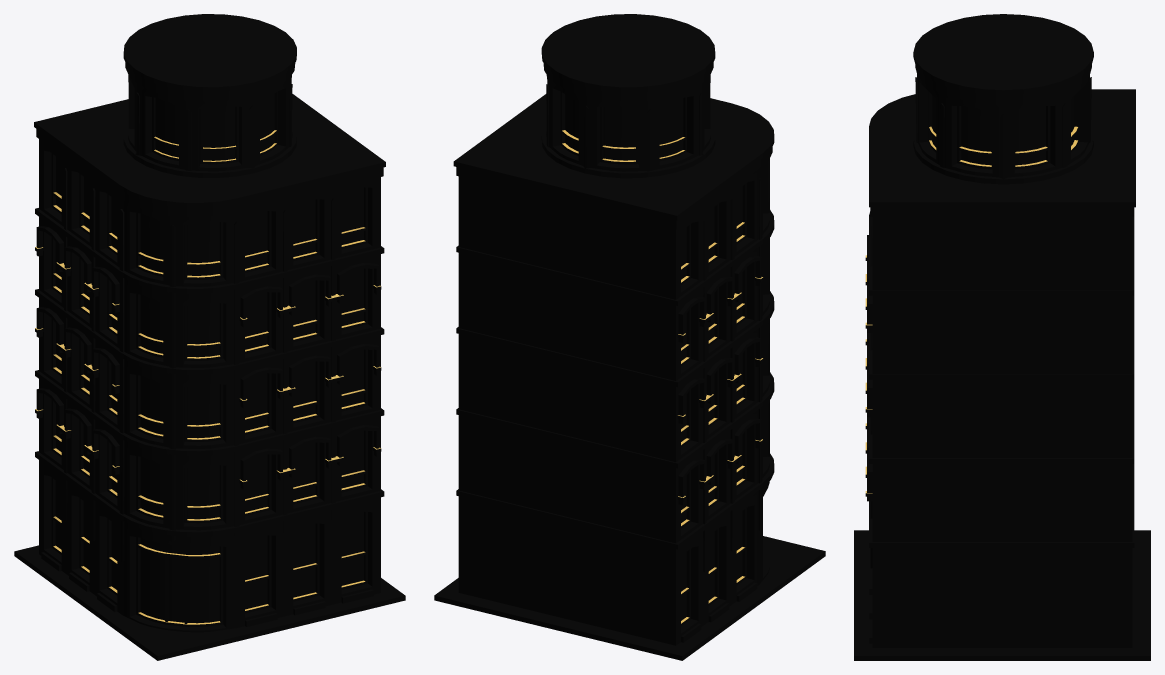
The model's file is Building_20B.fbx.
The picture shows the model from 3 angles, left to right: view 1: azimuth 30°, elevation 25°; view 2: azimuth 150°, elevation 25°; view 3: azimuth 270°, elevation 25°; orthographic projection. The views are drawn at different scales.
Visible parts, largest first — view 1: Building_20B, Window_Lights_20B; view 2: Building_20B, Window_Lights_20B; view 3: Building_20B.
Boxes of the visible parts, left/top/right/bottom form: Building_20B: left=14, top=14, right=405, bottom=660; Window_Lights_20B: left=55, top=93, right=363, bottom=623; Building_20B: left=434, top=14, right=825, bottom=660; Window_Lights_20B: left=659, top=98, right=742, bottom=620; Building_20B: left=854, top=14, right=1150, bottom=660.
Size of the model in its own units: 1600 by 3250 by 1600.
